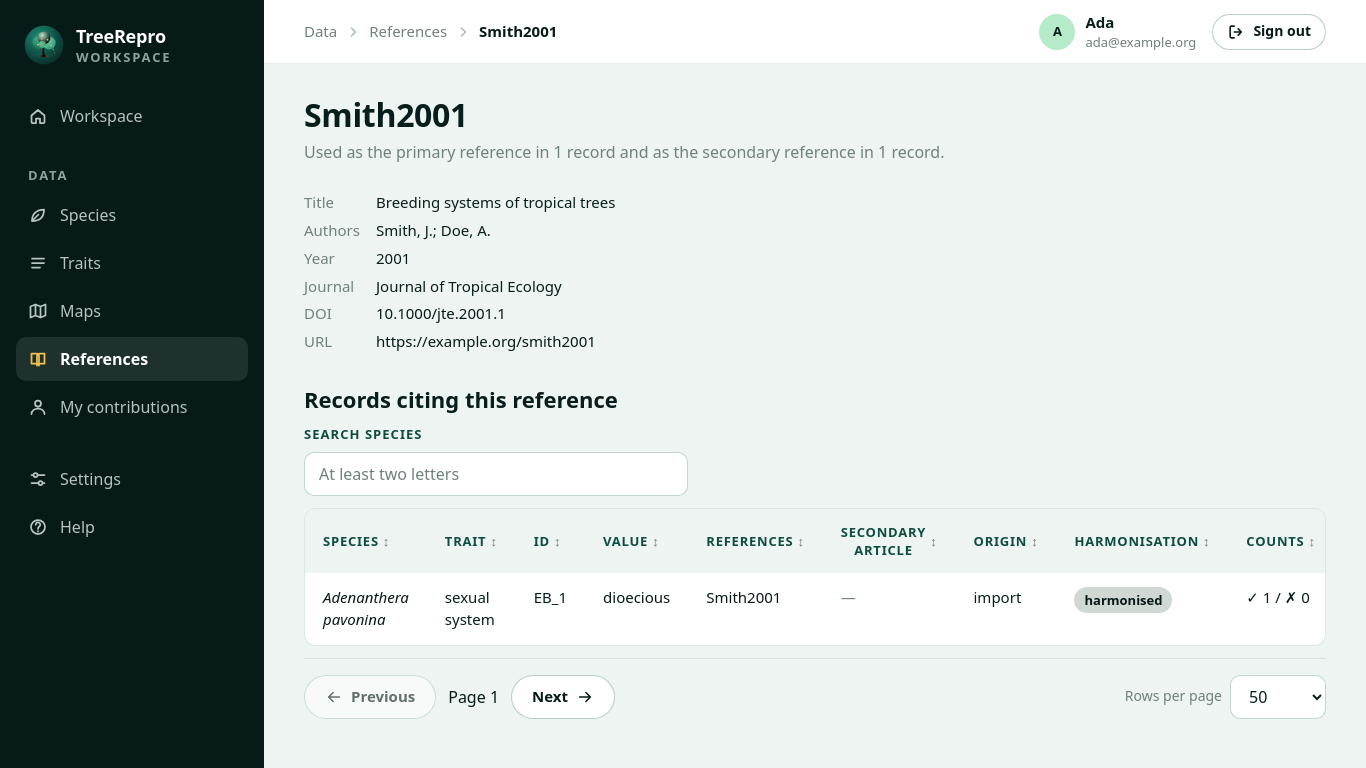
Test: RFC-63 R8, R9 ReferencePage records › steps to the next page of records with the cursor and back
expect the heading "Smith2001" is shown: met, box [304,93,468,136]
expect the button "dioecious" is shown: met, box [603,587,670,609]
What coordinates should you click on to do the following:
click the button "Next"
I would click on:
 (563, 696)
Its box is [511,674,615,718].
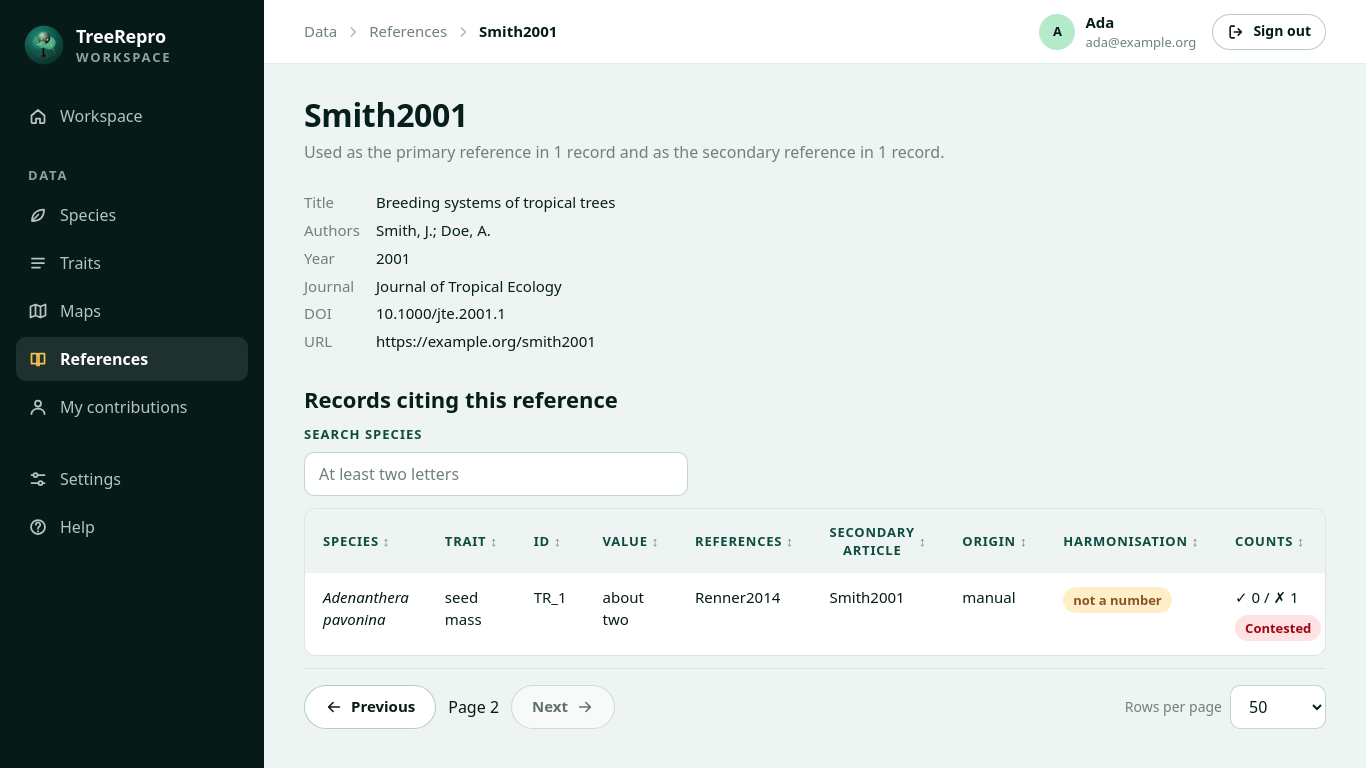
expect the button "about two" is shown: met, box [603,587,659,630]
expect the button "dioecious" is gone: met
expect the text "Page 2" is shown: met, box [448,695,499,719]
What coordinates should you click on to do the following:
click the button "Previous"
I would click on:
 (370, 707)
Its box is [304,685,436,729].
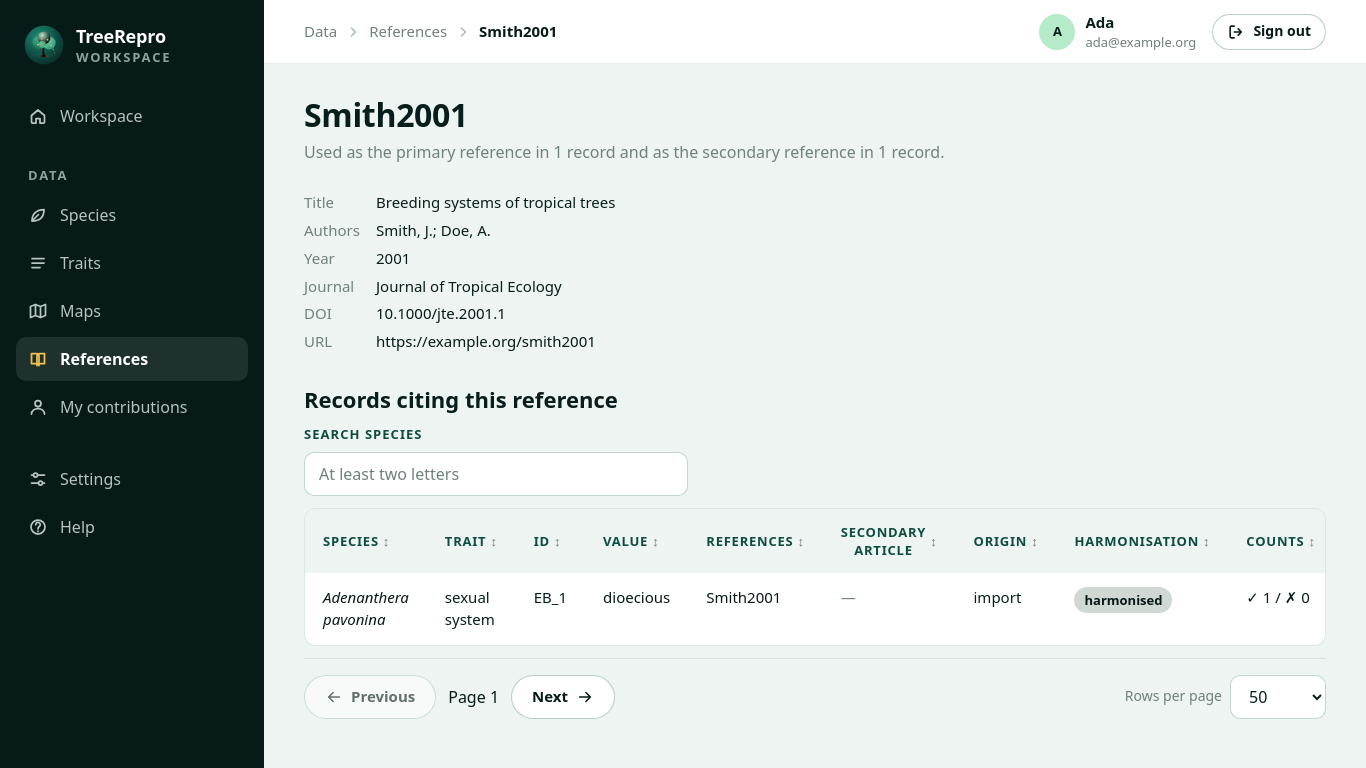
expect the button "dioecious" is shown: met, box [603,587,670,609]
expect the text "Page 1" is shown: met, box [448,684,499,708]
